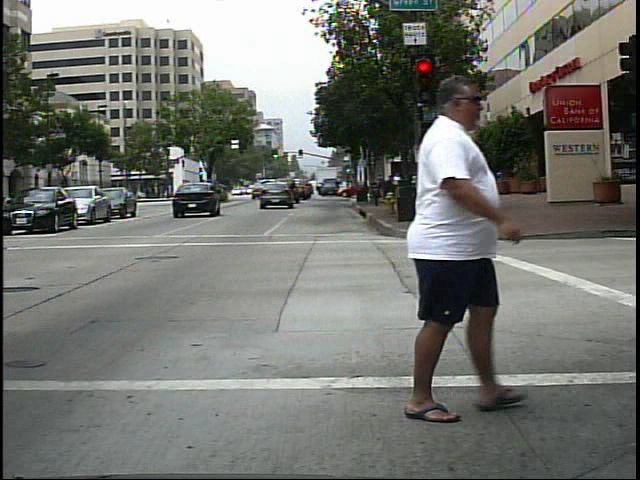person: (367, 73, 525, 423)
